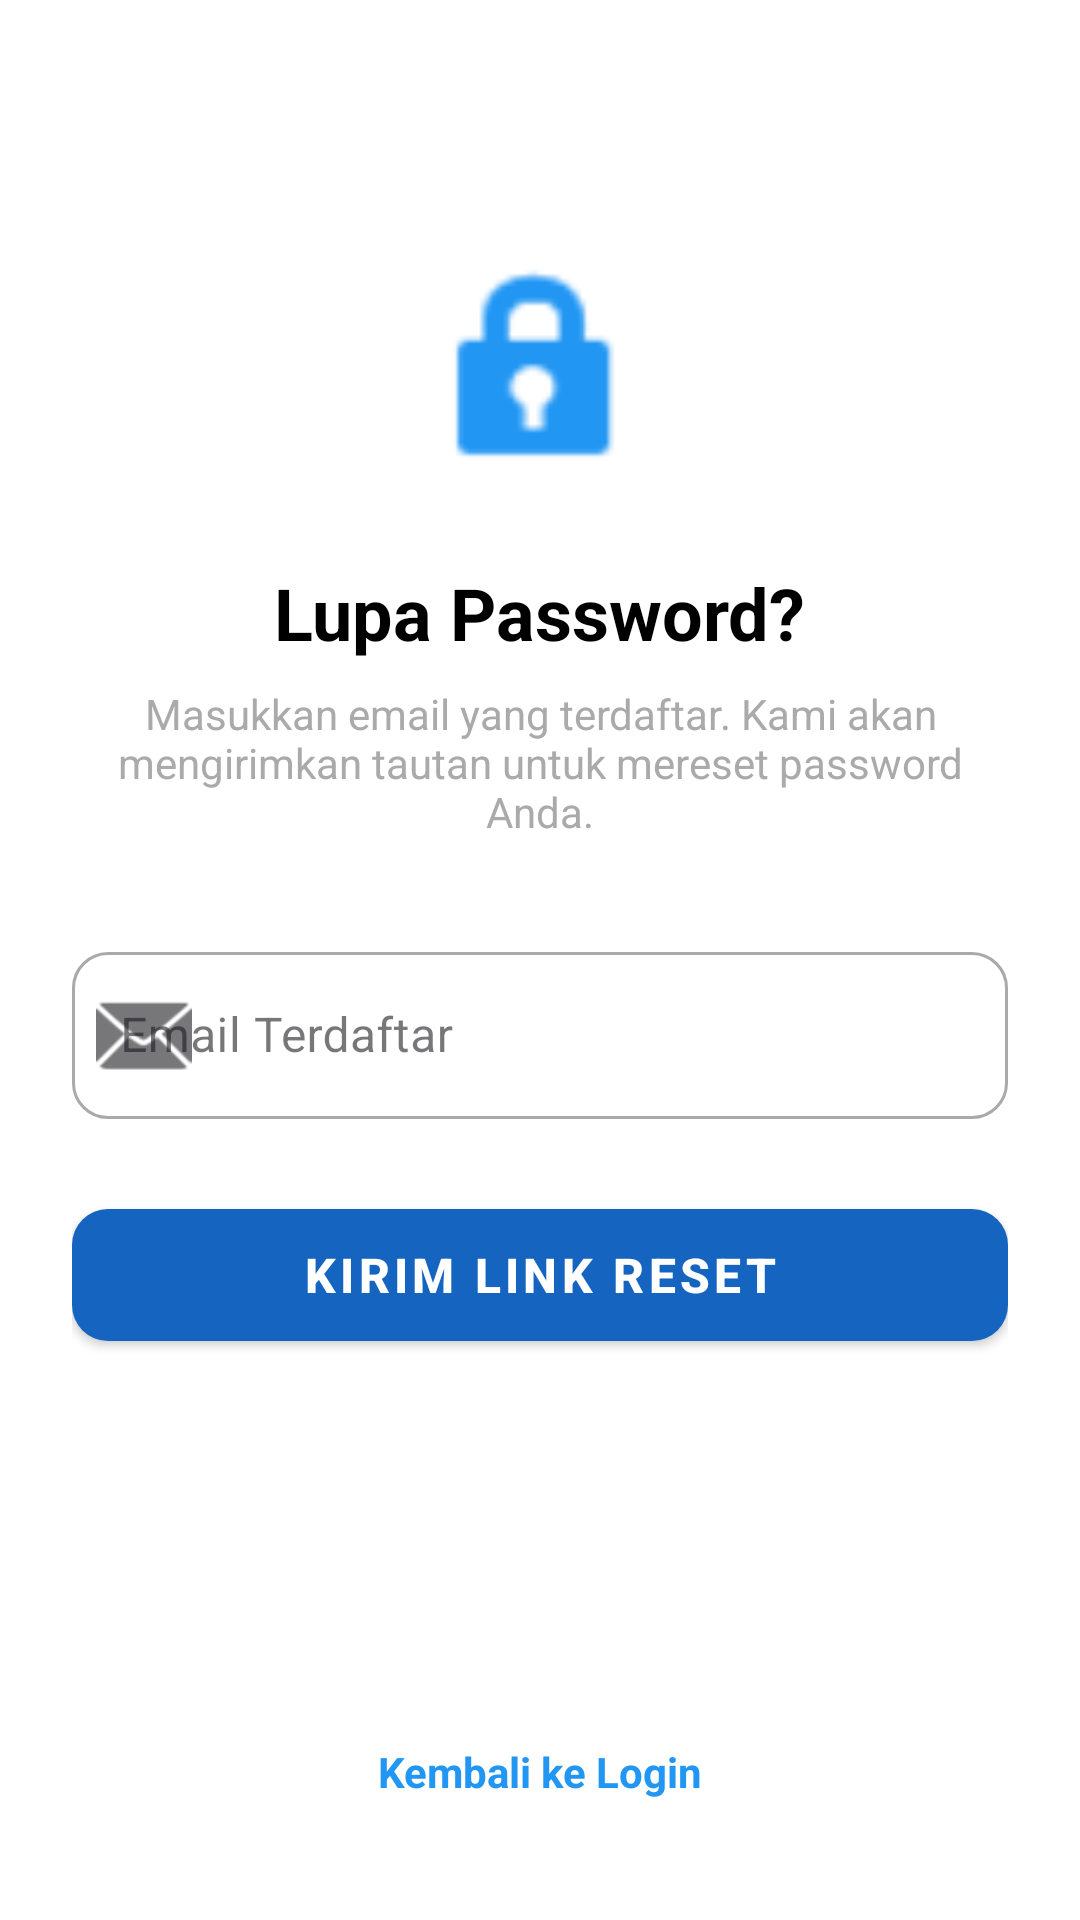

Screen size 1080*1920. Icon name, then its center in pixels as (x=x, y=y):
lock idle: (x=534, y=364)
